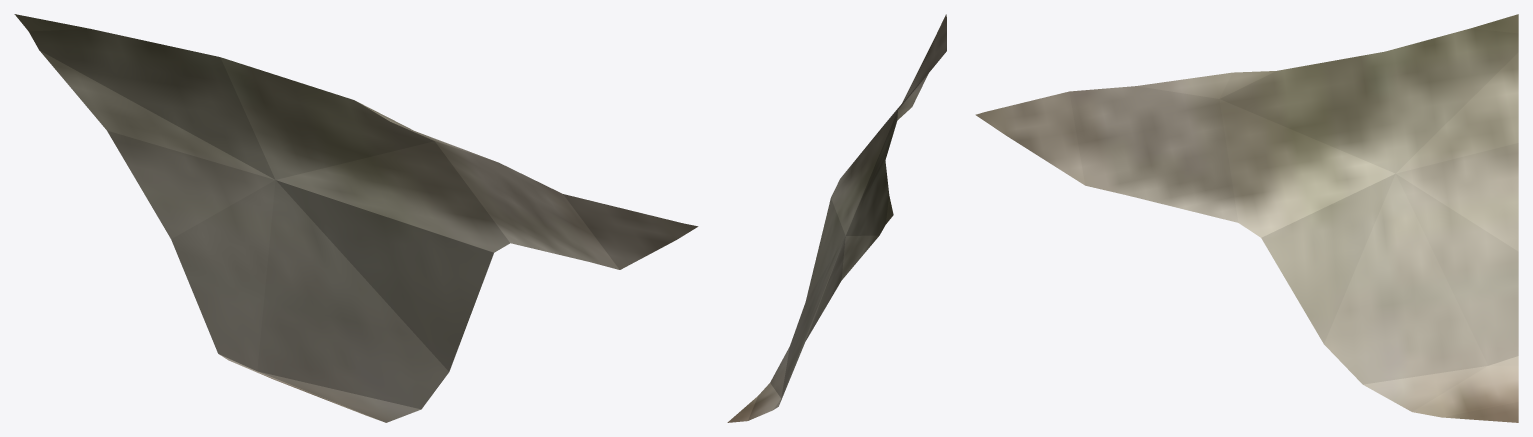
3 renders of one model, left to right at view 1: azimuth 30°, elevation 25°; view 2: azimuth 150°, elevation 25°; view 3: azimuth 270°, elevation 25°, orthographic. The views are drawn at different scales.
Bounding box in the file's own units: 0.2254 × 0.3212 × 0.5135.
1 material, 1 textured.
